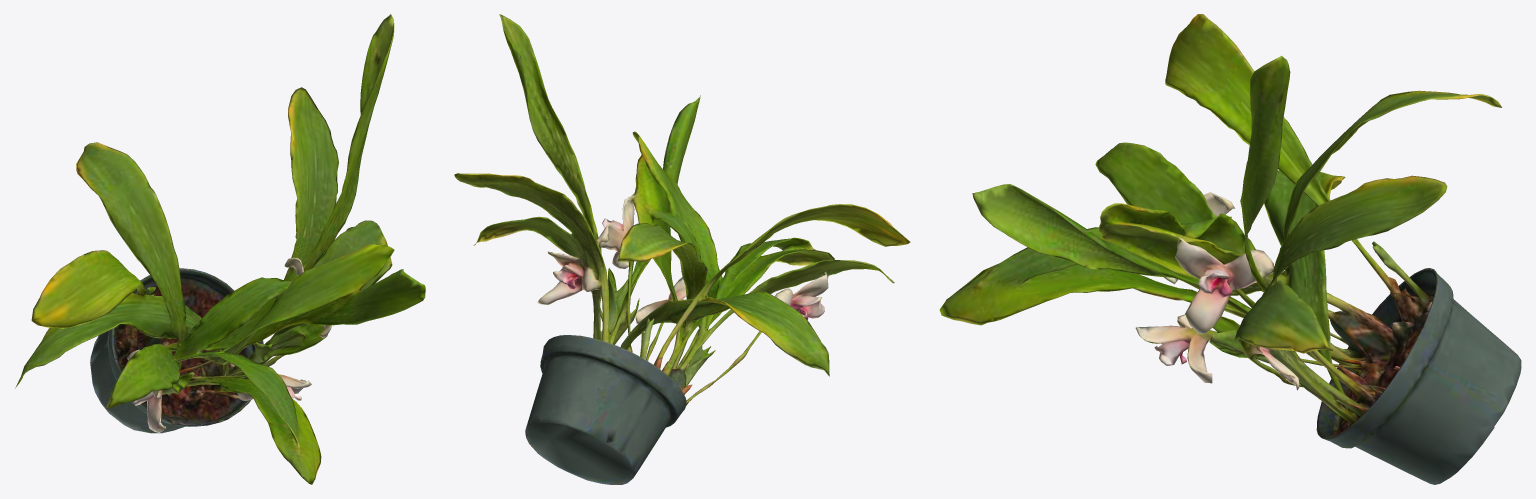
Rendered from lycaste-preview.glb.
3 renders of one model, left to right at view 1: azimuth 30°, elevation 25°; view 2: azimuth 150°, elevation 25°; view 3: azimuth 270°, elevation 25°, orthographic. The views are drawn at different scales.
Size of the model in its own units: 0.5747 by 0.5662 by 0.5757.
Materials: 1 (1 with a texture image).
